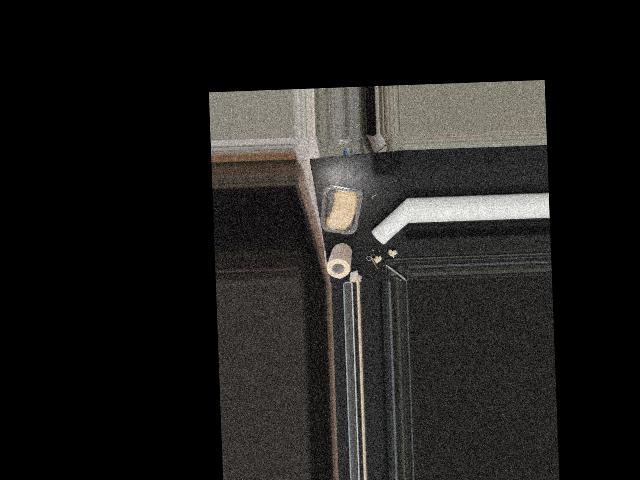cheese: (322, 183, 362, 235)
